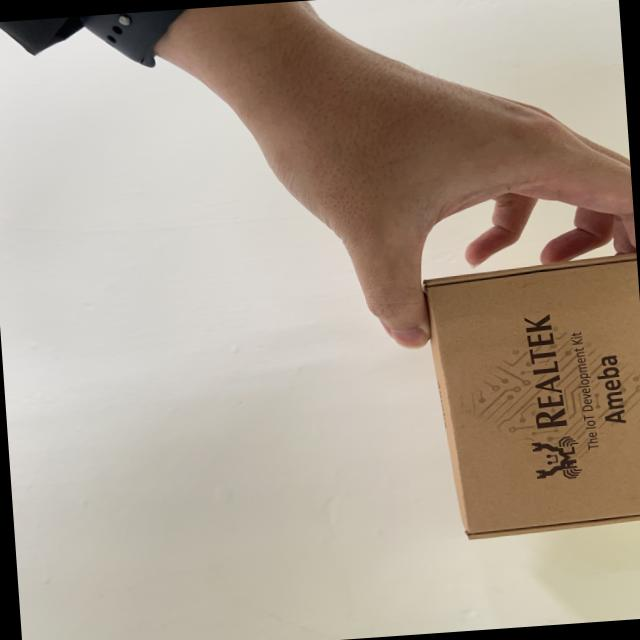box: (396, 248, 640, 565)
